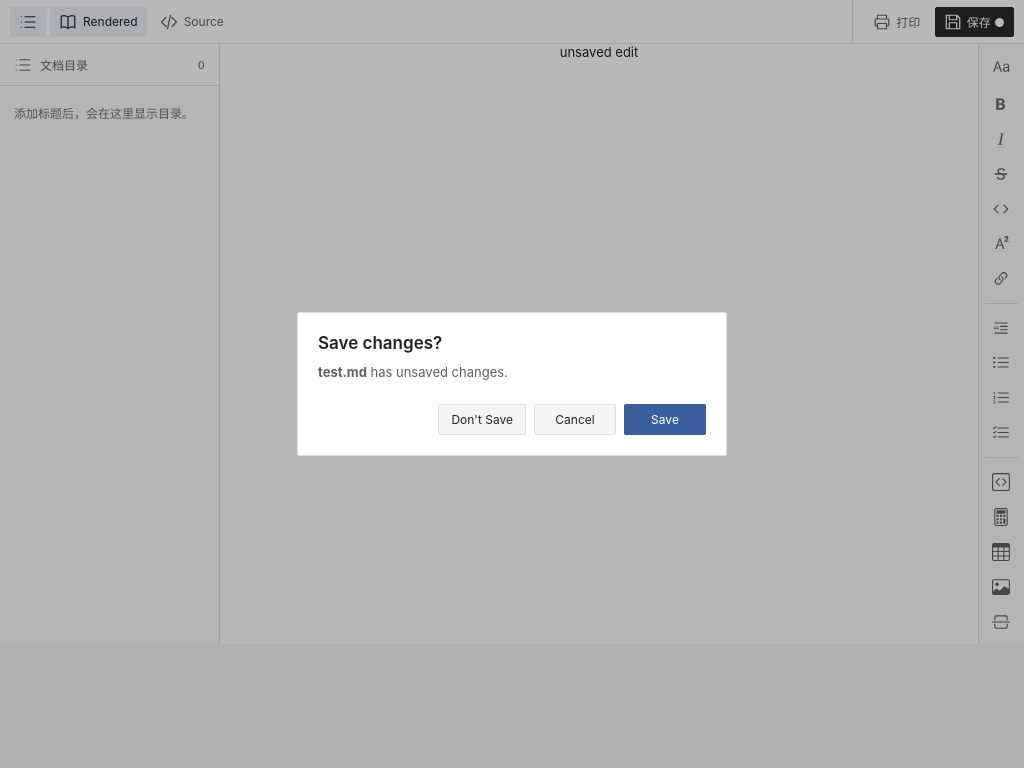
Scenario: Milkdown editor lifecycle › reloads the last saved text when changes are explicitly discarded
Click the button "Don't Save" at (482,420), box [438,404,526,435]
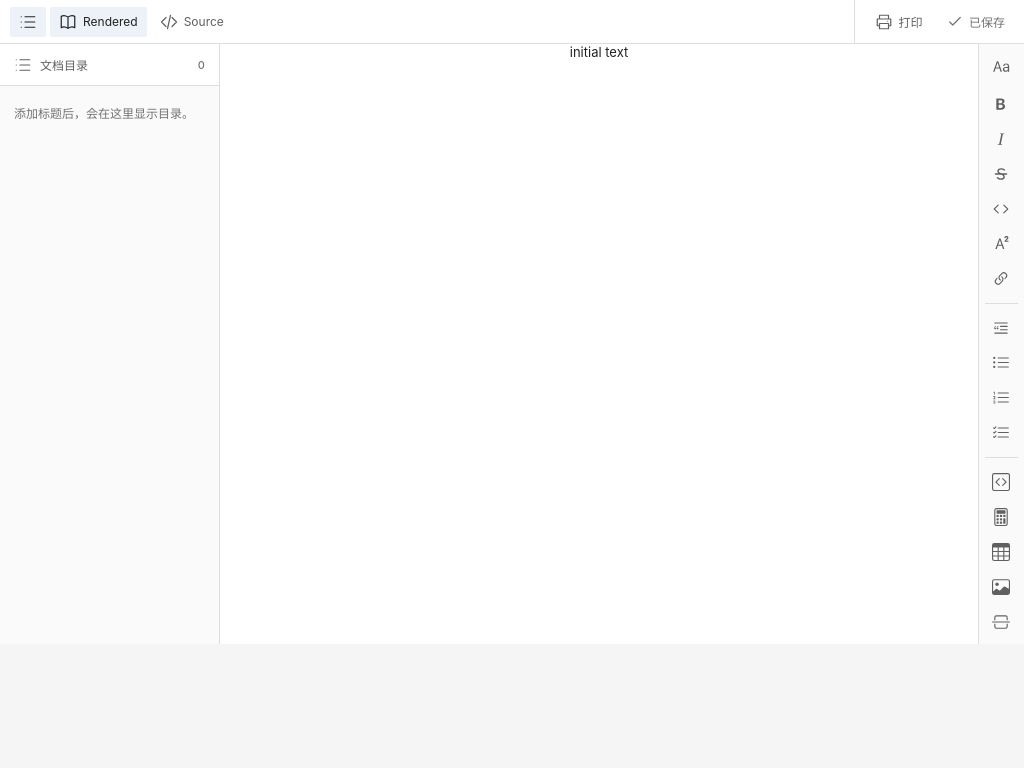
Check: the text "initial text" is shown, box [570,44,628,60]
